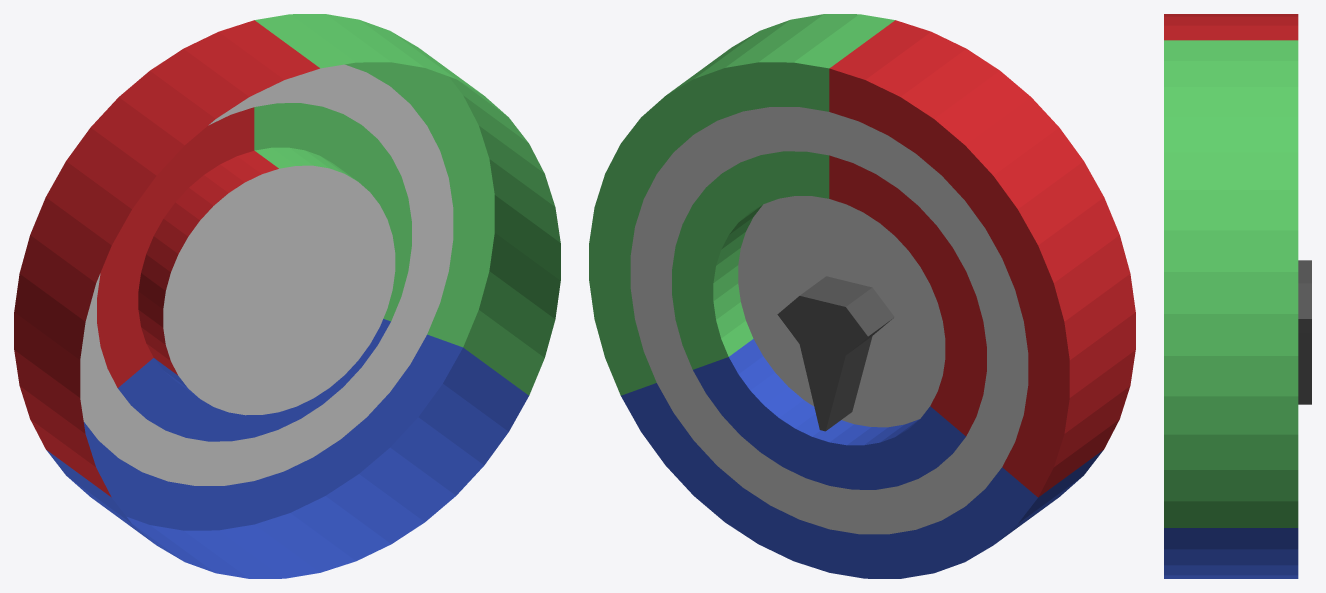
Rendered from GGJ20_Swatch_New.fbx.
The picture shows the model from 3 angles, left to right: view 1: azimuth 30°, elevation 25°; view 2: azimuth 150°, elevation 25°; view 3: azimuth 270°, elevation 25°; orthographic projection.
Visible parts, largest first — view 1: Blue, Green, Red, Cylinder; view 2: Red, Green, Blue, Cylinder, Cursor; view 3: Green, Blue, Red, Cursor.
Part boxes in pixels (x1,y1,x2,y2): Blue: [46, 319, 528, 578]; Green: [254, 14, 560, 395]; Red: [14, 20, 319, 497]; Cylinder: [163, 165, 395, 415]; Red: [829, 20, 1135, 497]; Green: [589, 14, 894, 395]; Blue: [621, 339, 1103, 578]; Cylinder: [738, 196, 945, 427]; Cursor: [777, 276, 894, 431]; Green: [1164, 40, 1298, 527]; Blue: [1164, 528, 1298, 578]; Red: [1164, 14, 1298, 40]; Cursor: [1298, 260, 1311, 404].
Size of the model in its own units: 199 by 200 by 52.33.
